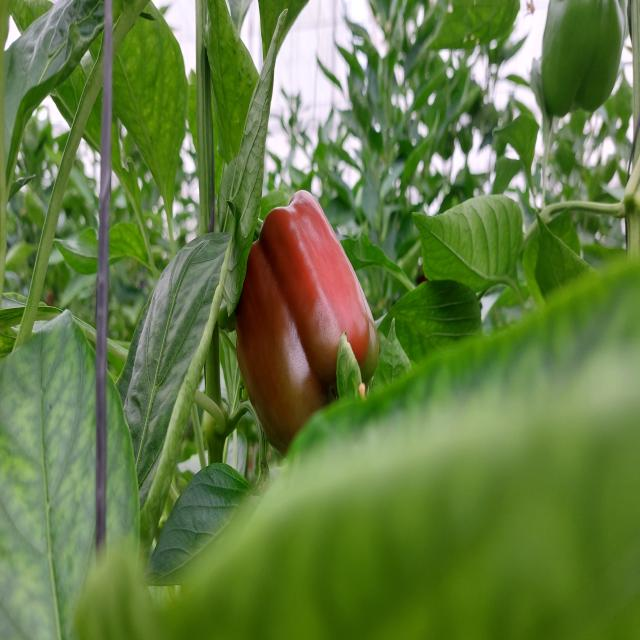Red-Ready-to-Harvest: (234, 169, 379, 445)
